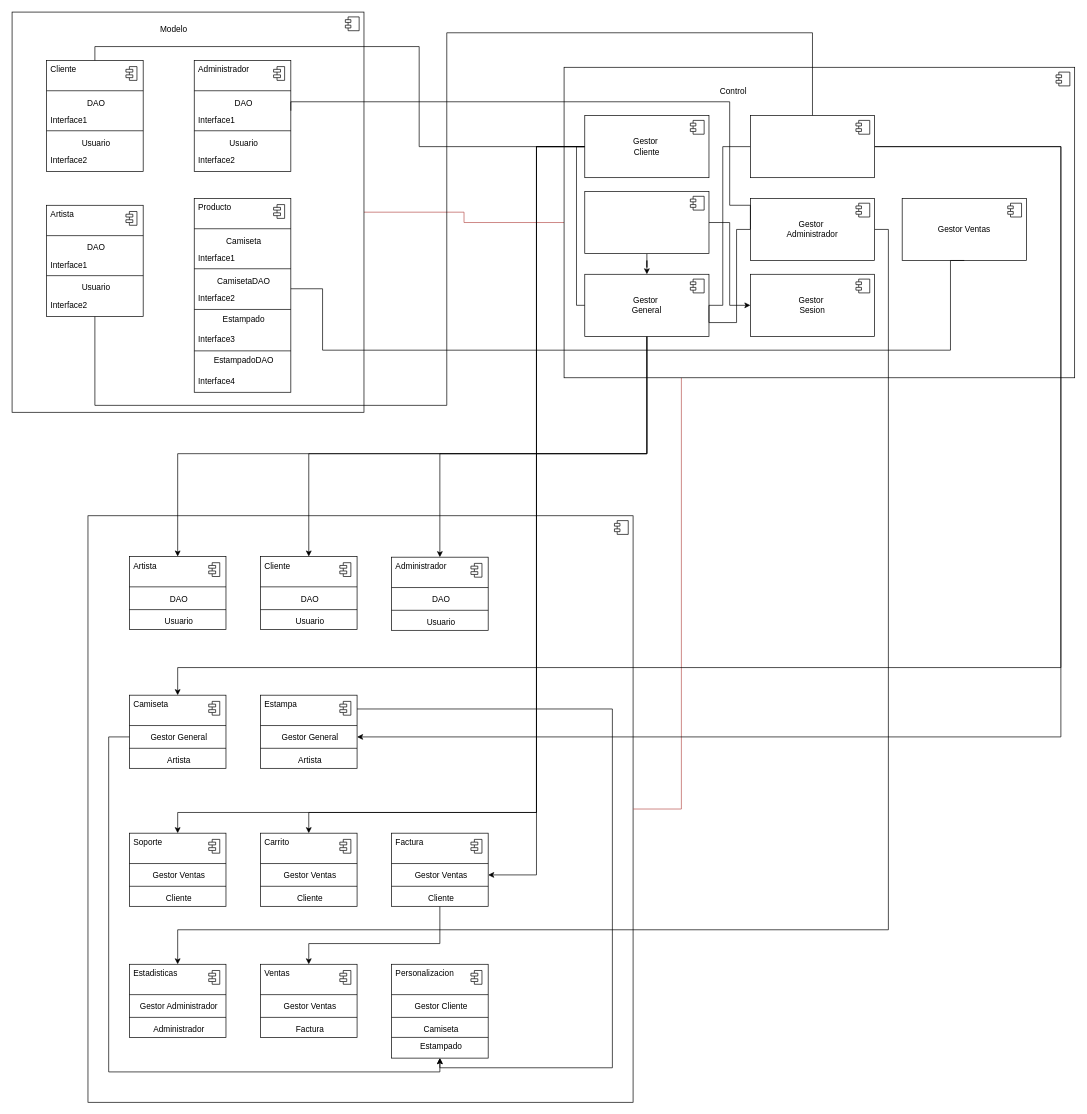
Some shapes in this 1087 by 1114 pixel diagram are drawn without their labels. The shapes that lost their labels are listed below. From the top down, each one's centre as x and y in pixels, then its label:
(812,146): Gestor Artista
(646,222): Gestor API
